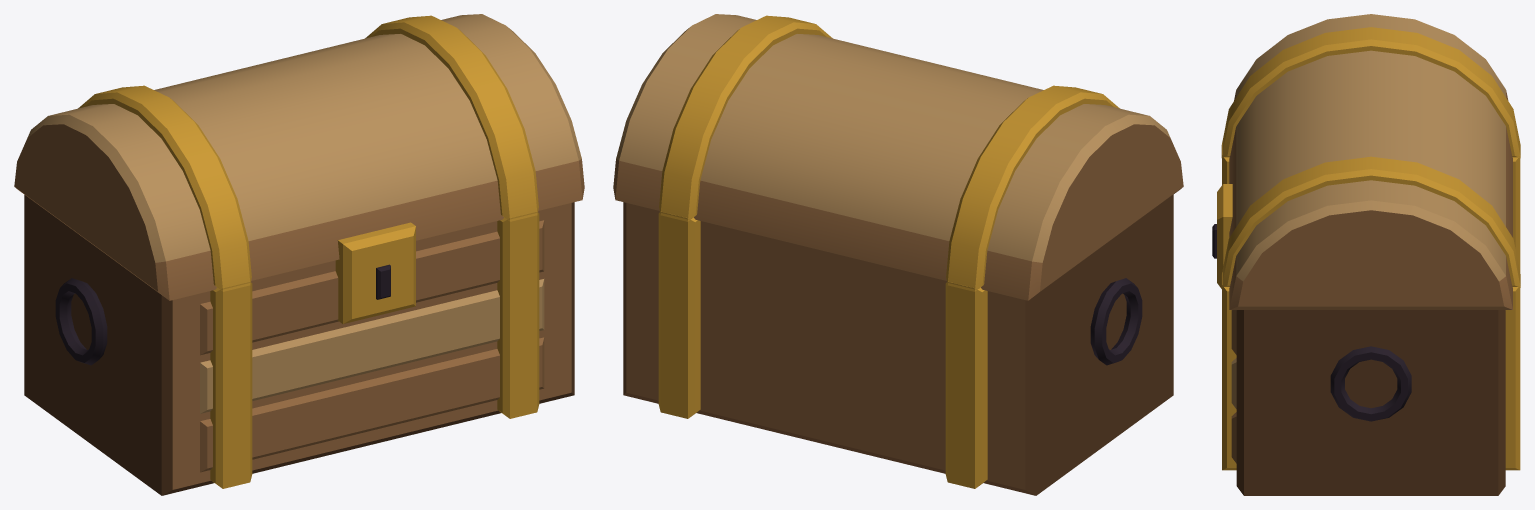
Rendered from Chest_14.glb.
The picture shows the model from 3 angles, left to right: view 1: azimuth 30°, elevation 25°; view 2: azimuth 150°, elevation 25°; view 3: azimuth 270°, elevation 25°; orthographic projection. The views are drawn at different scales.
Visible parts, largest first — view 1: Chest_14; view 2: Chest_14; view 3: Chest_14.
Part boxes in pixels (x1=…): Chest_14: x1=14, y1=14, x2=584, y2=495; Chest_14: x1=613, y1=14, x2=1183, y2=495; Chest_14: x1=1212, y1=14, x2=1520, y2=495.
Bounding box in the file's own units: 3.91 × 2.75 × 2.52.
